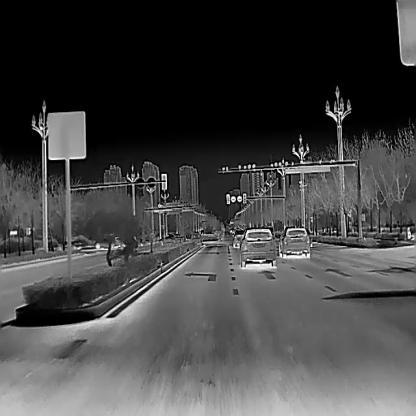car: (239, 228, 276, 267), (279, 227, 310, 257), (94, 235, 122, 249), (232, 229, 252, 248)
